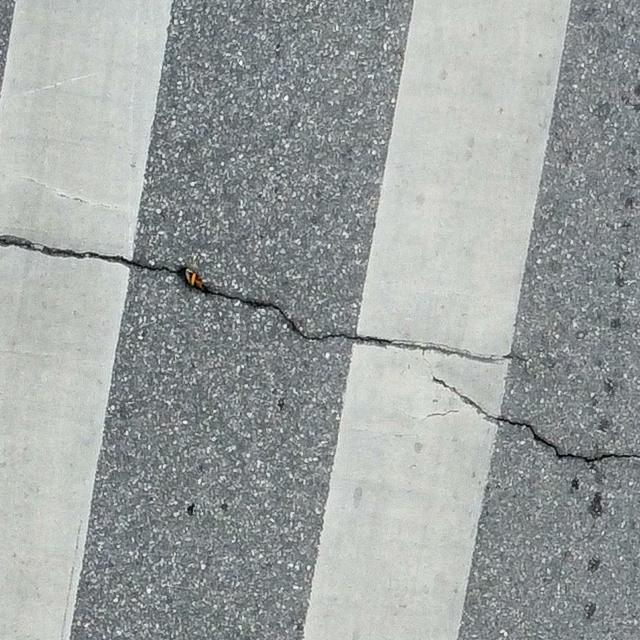TransverseCrack: (1, 231, 525, 363), (429, 374, 640, 462)
